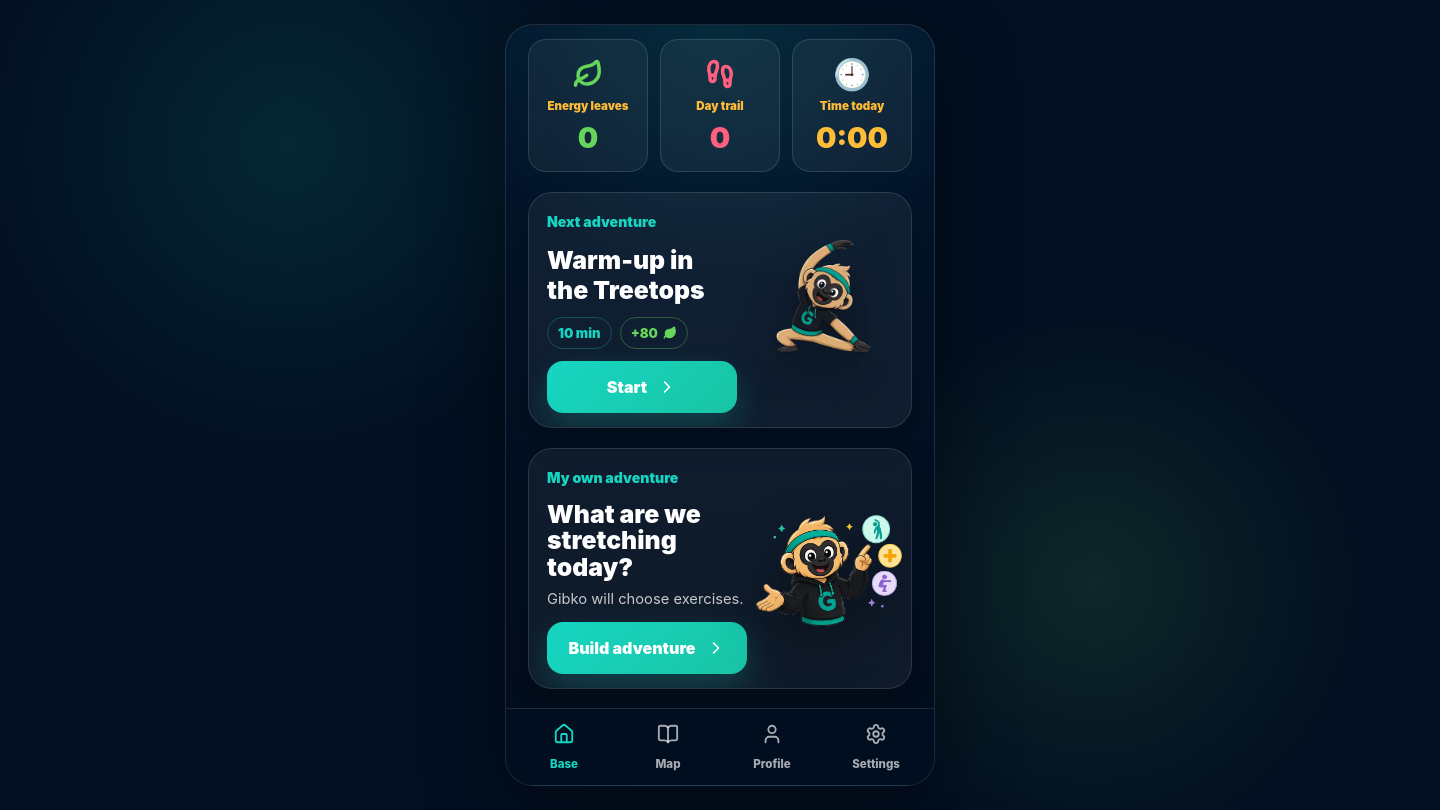
Test: mission flow › lets children build a custom adventure from the home screen
(page scrolled)
Step 1. Click the link "Build adventure" → [647, 648], box [547,622,747,674]
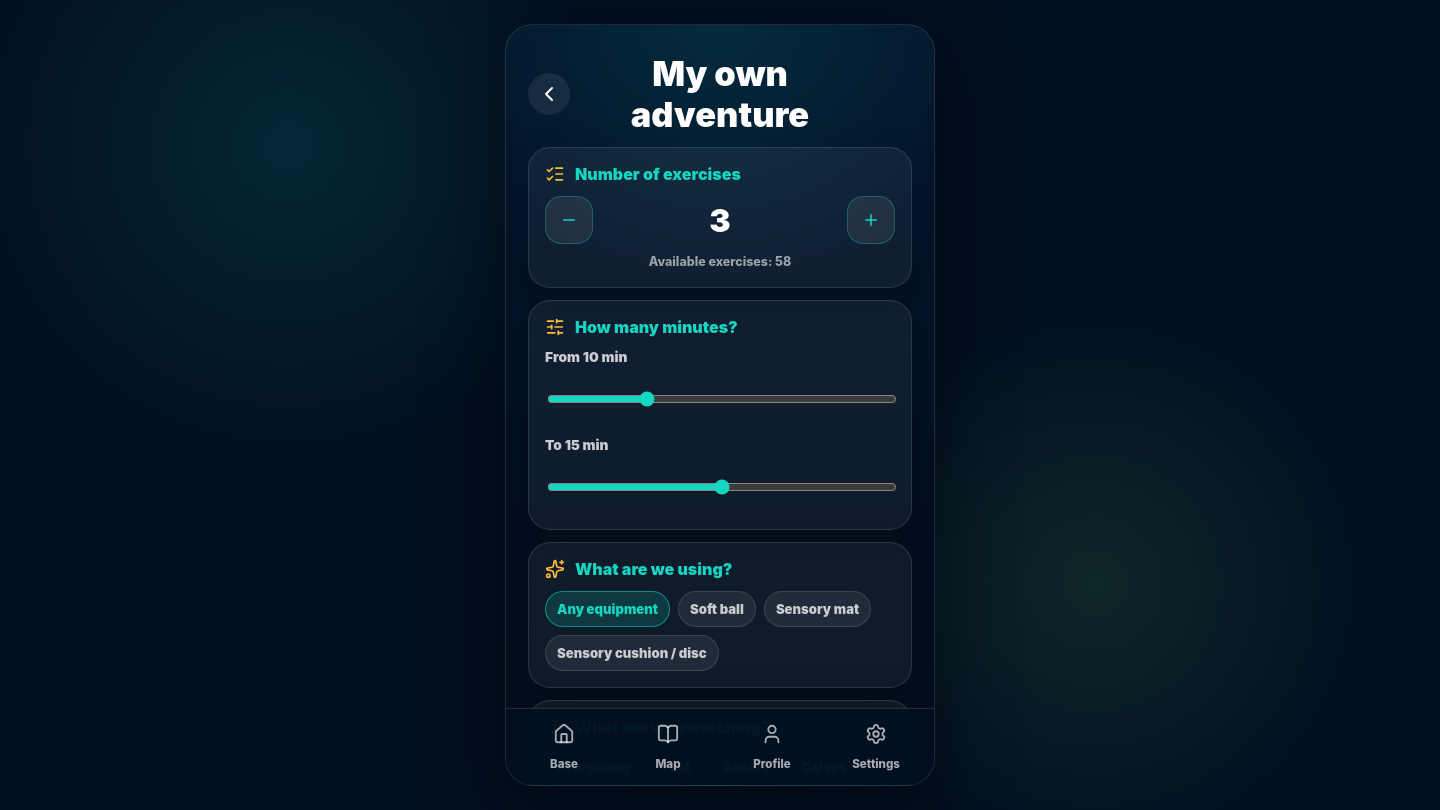
Now the text "Number of exercises" is shown, box [575,164,741,184]
Now the text "What are we using?" is shown, box [575,559,732,579]
Now the button "Any equipment" is shown, box [545,591,670,627]
Step 2. Click the button "Soft ball" → [717, 609], box [678,591,756,627]
(page scrolled)
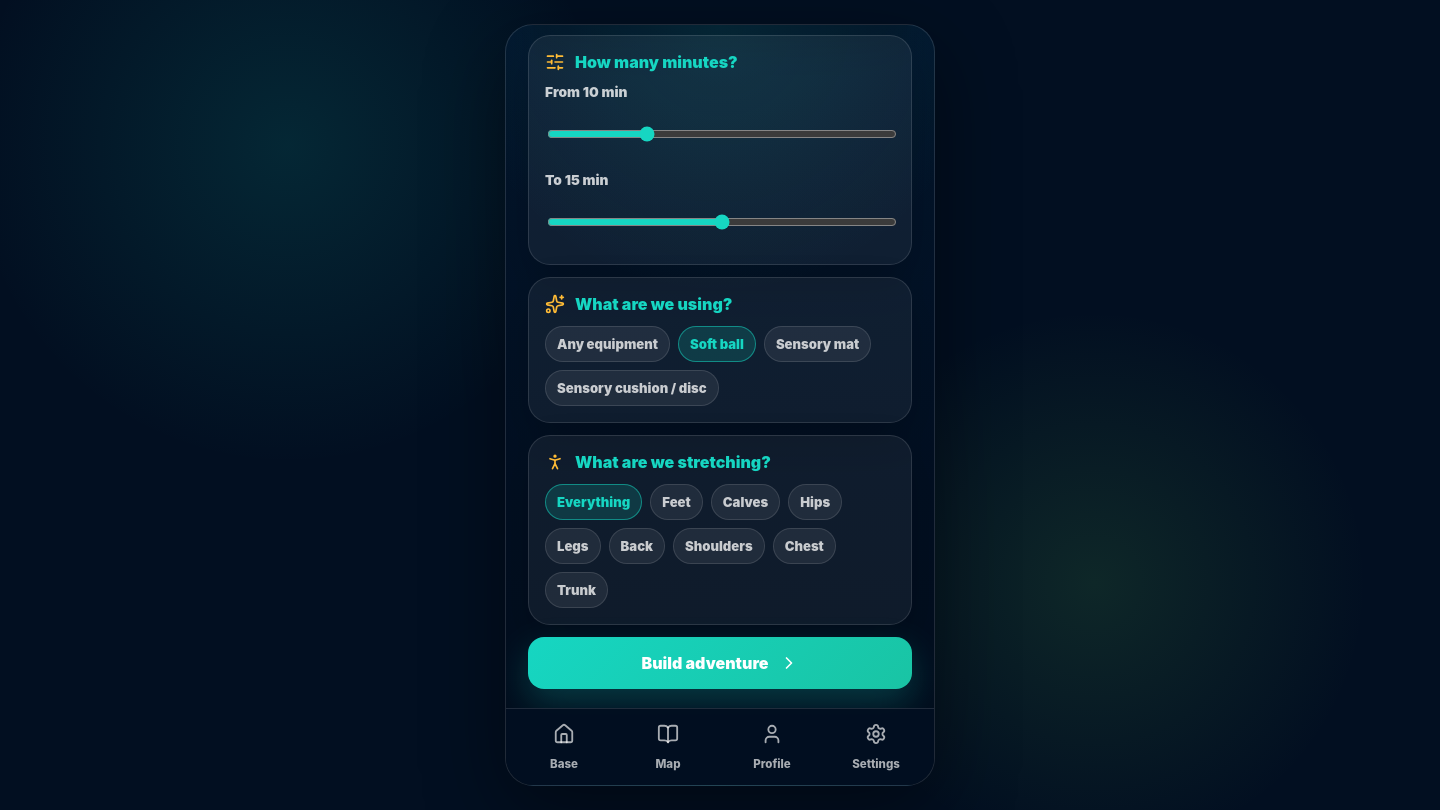
Now the button "Feet" is shown, box [650,484,703,520]
Step 3. Click the button "Build adventure" → [720, 663], box [528,637,912,689]
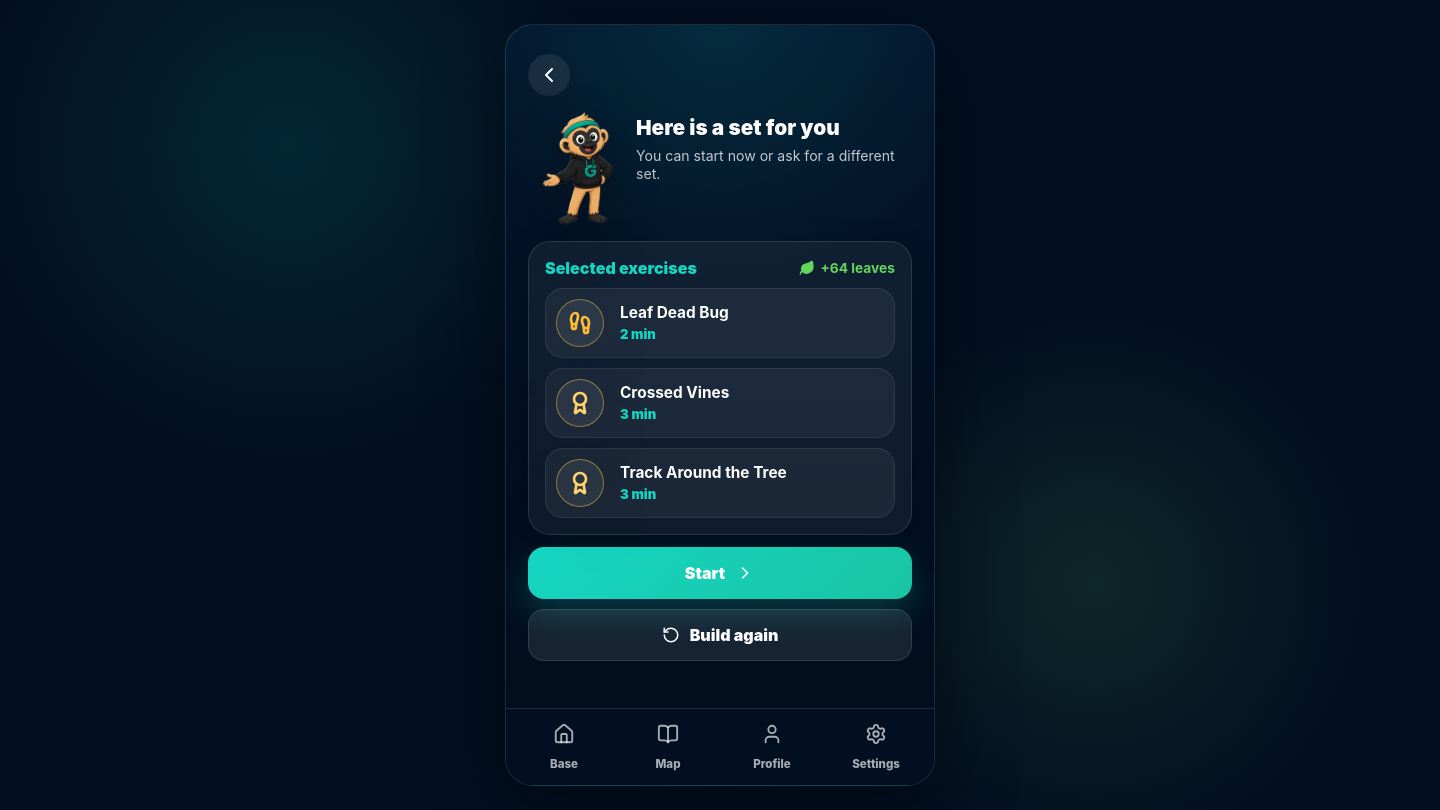
Now the heading "Here is a set for you" is shown, box [636,115,840,140]
Now the text "Selected exercises" is shown, box [545,258,697,278]
Now the button "Build again" is shown, box [528,609,912,661]
